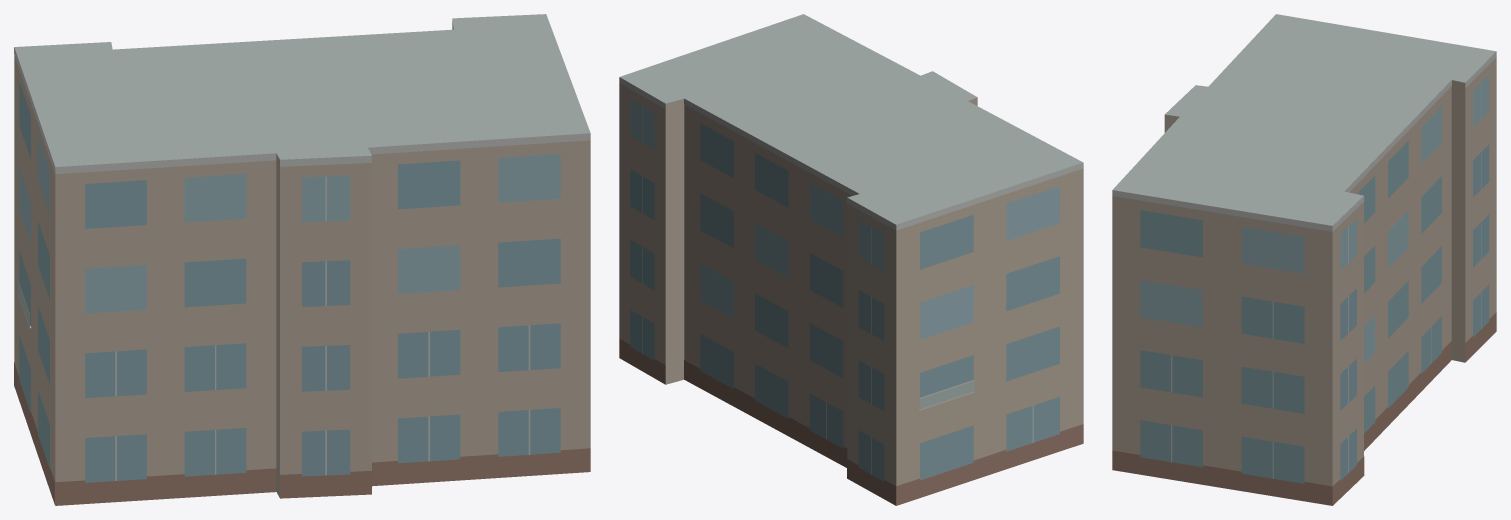
Rendered from survey-upis-32905695.glb.
3 views of the same model, side by side, from view 1: azimuth 30°, elevation 25°; view 2: azimuth 150°, elevation 25°; view 3: azimuth 270°, elevation 25° (orthographic). The views are drawn at different scales.
Parts seen in each view (by area): view 1: survey-upis-32905695.tmp; view 2: survey-upis-32905695.tmp; view 3: survey-upis-32905695.tmp.
Boxes of the visible parts, box(x1,y1,x2,y2) form: survey-upis-32905695.tmp: box(14, 14, 590, 505); survey-upis-32905695.tmp: box(619, 14, 1083, 505); survey-upis-32905695.tmp: box(1112, 14, 1496, 505).
Bounding box in the file's own units: 19 × 11.7 × 14.56.
